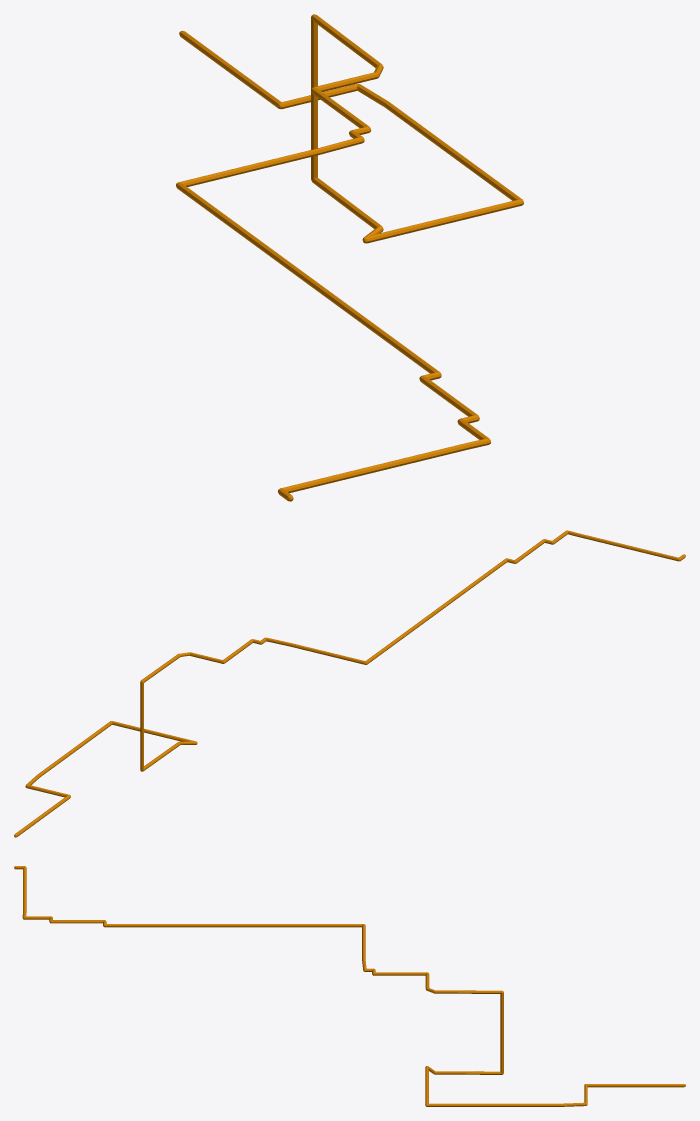
The picture shows the model from 3 angles, top to bottom: view 1: azimuth 30°, elevation 25°; view 2: azimuth 150°, elevation 25°; view 3: azimuth 270°, elevation 25°; orthographic projection. The views are drawn at different scales.
Bounding box in the file's own units: 2094 × 520 × 3762.
